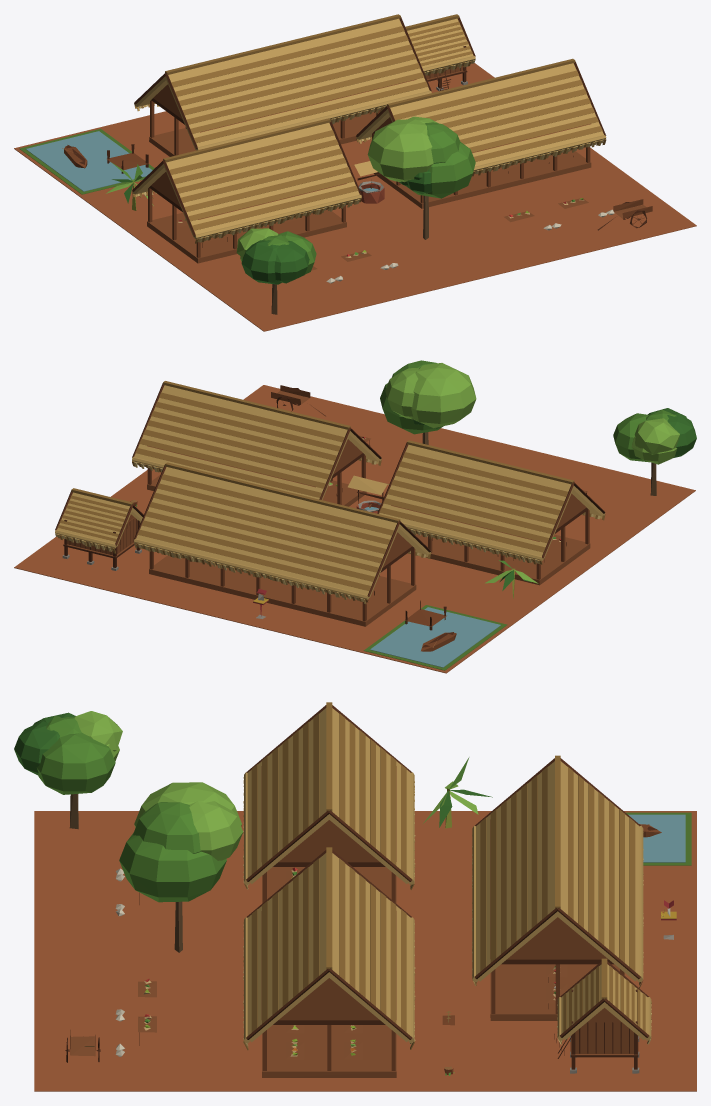
File: shop_5.glb
The picture shows the model from 3 angles, top to bottom: view 1: azimuth 30°, elevation 25°; view 2: azimuth 150°, elevation 25°; view 3: azimuth 270°, elevation 25°; orthographic projection. The views are drawn at different scales.
Visible parts, largest first — view 1: body; view 2: body; view 3: body.
Part boxes in pixels (box(x1,y1,x2,y2)): body: box(14, 14, 696, 331); body: box(14, 360, 696, 673); body: box(14, 702, 696, 1091).
Size of the model in its own units: 32.42 by 8.55 by 32.88.
